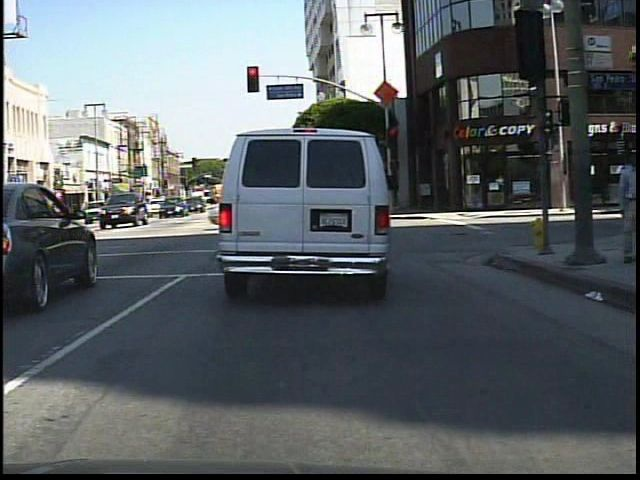person: (614, 146, 639, 266)
